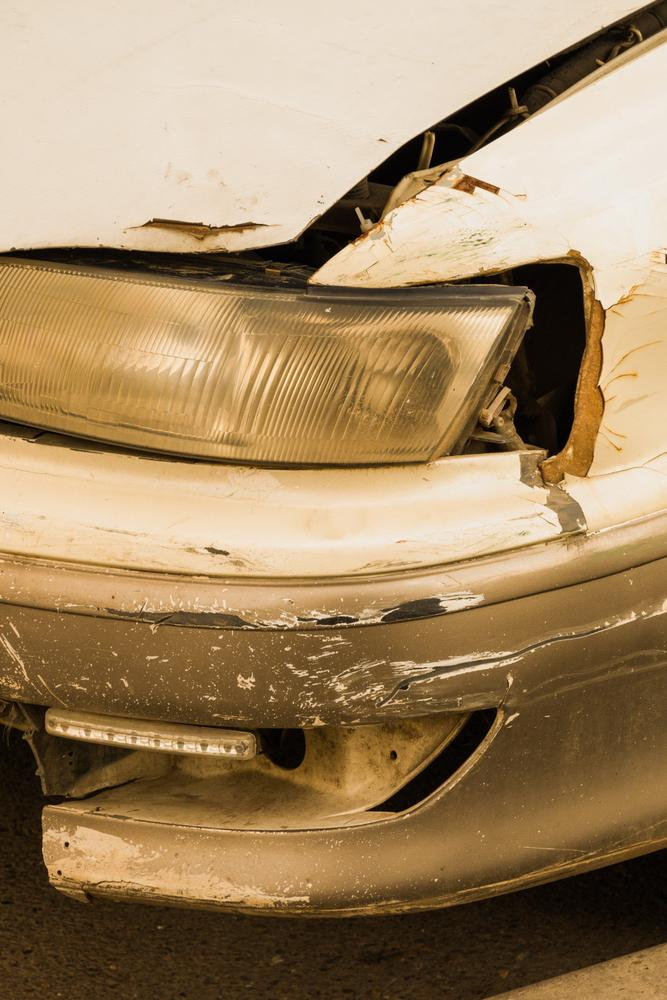scratch: (102, 535, 521, 719), (44, 825, 310, 906), (354, 173, 540, 273)
